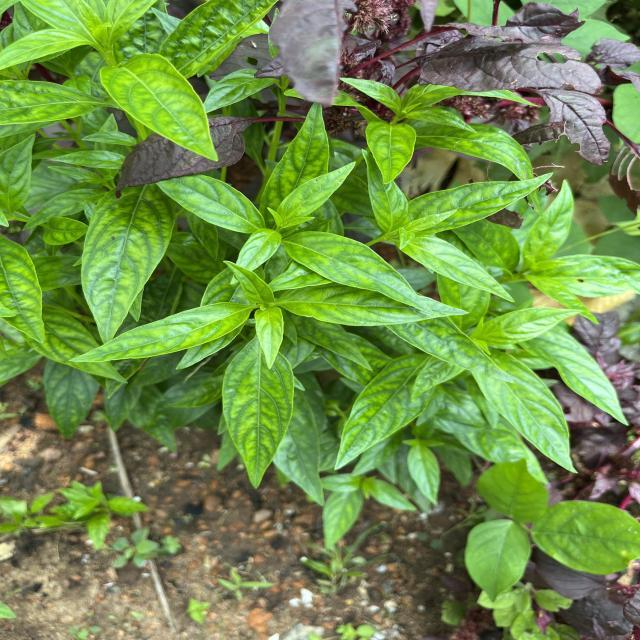Andrographis paniculata: (78, 185, 178, 348), (471, 349, 582, 477), (97, 50, 220, 164), (282, 230, 437, 318), (332, 352, 438, 473), (68, 300, 254, 364), (222, 336, 296, 491), (407, 172, 556, 234), (395, 233, 516, 304), (286, 288, 470, 328), (276, 160, 357, 224), (474, 306, 586, 350), (364, 118, 418, 187), (321, 488, 364, 550), (222, 256, 275, 305), (251, 305, 287, 370), (406, 442, 442, 507)
